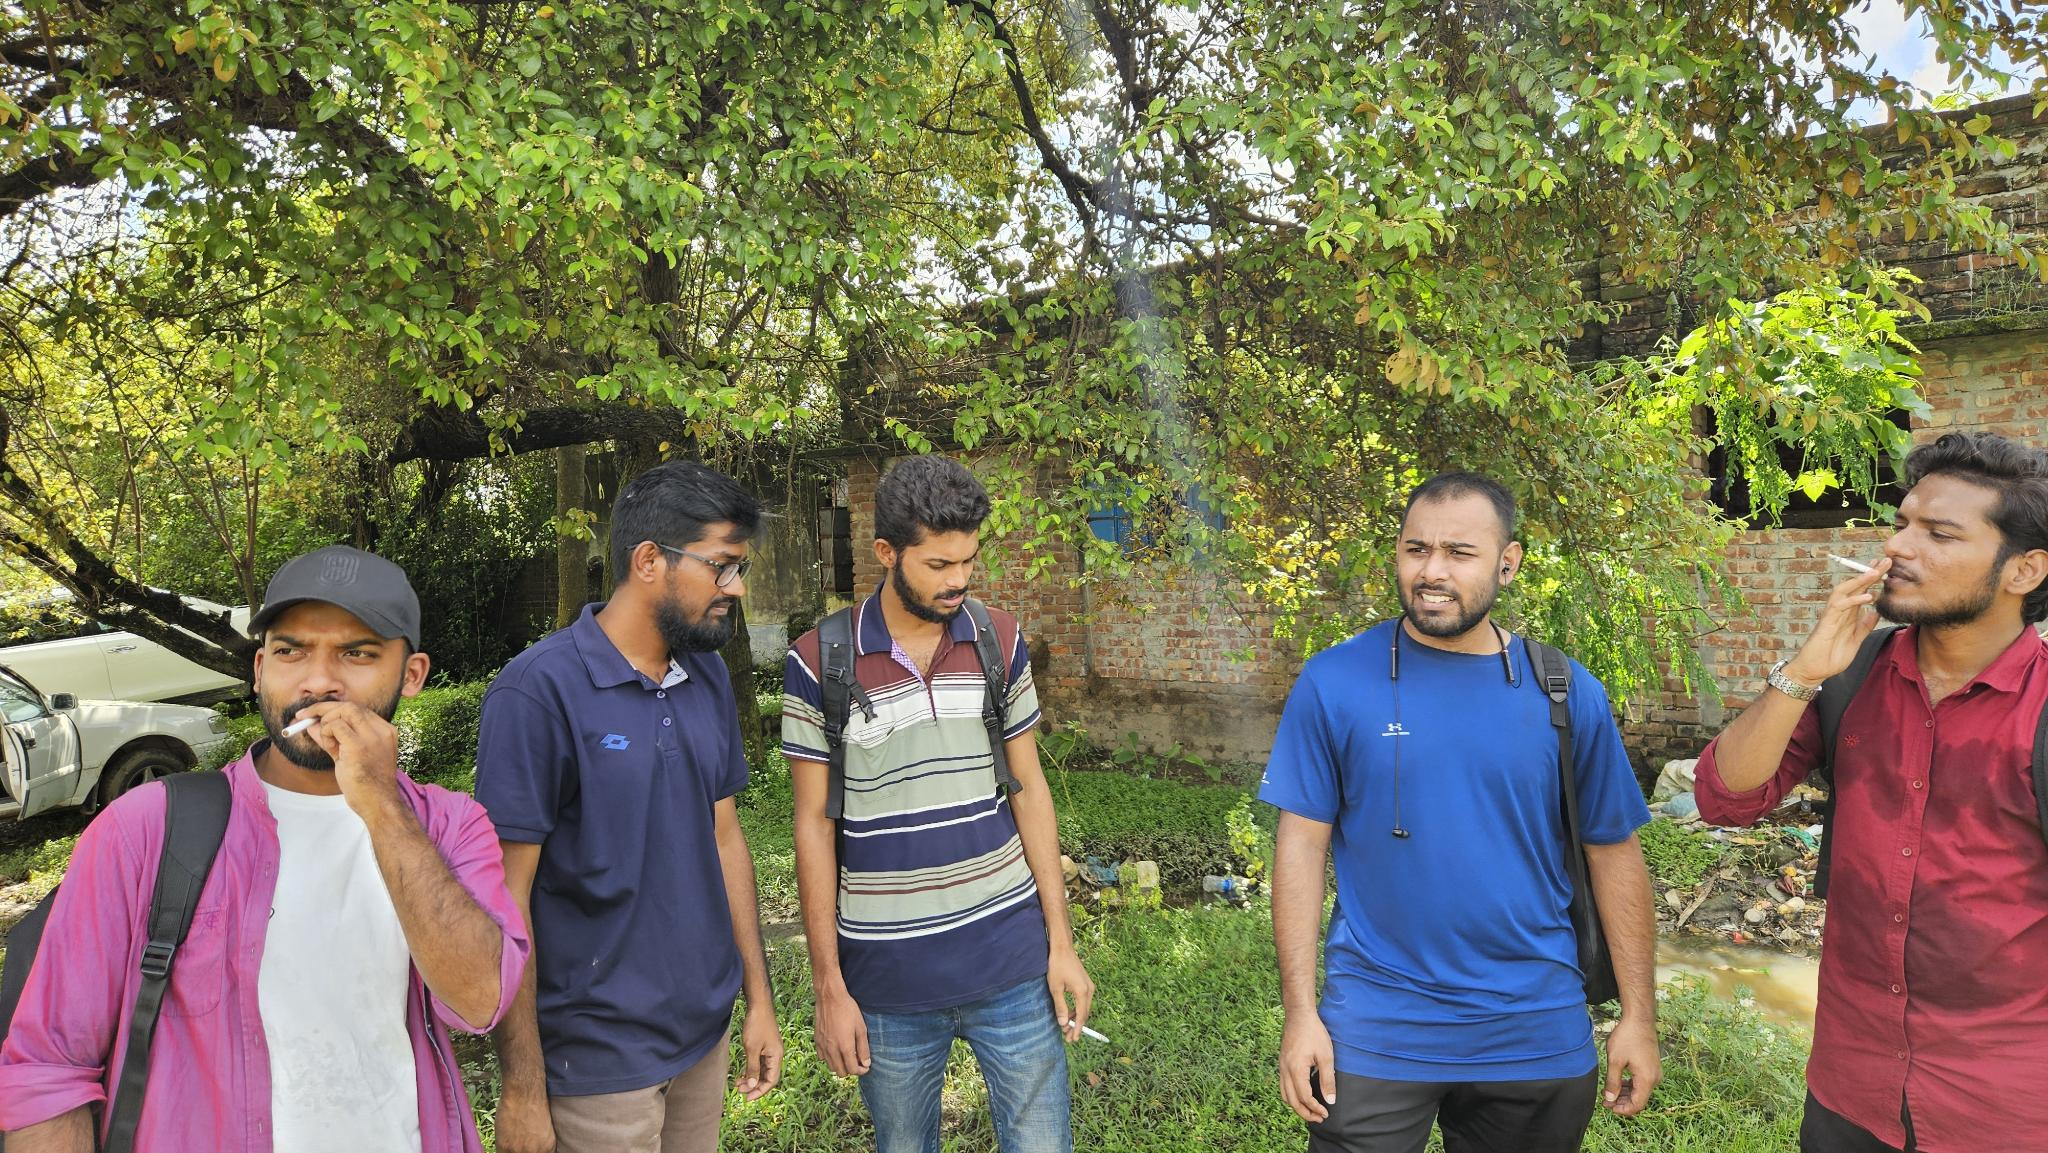cigarette: (1823, 551, 1890, 584), (279, 711, 324, 742), (1066, 1018, 1111, 1046)
nonSmoker: (1256, 470, 1667, 1153), (471, 465, 776, 1153)
smoker: (0, 546, 527, 1153), (1691, 426, 2048, 1153), (778, 456, 1118, 1153)
